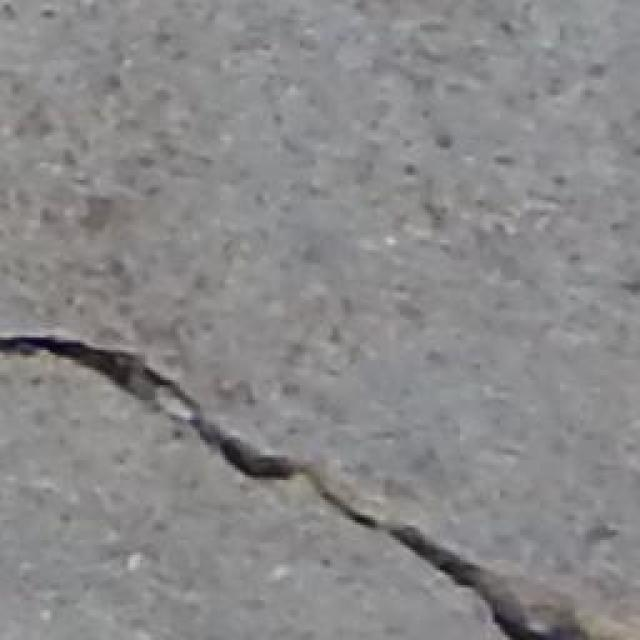concrete-crack: (0, 332, 600, 640)
